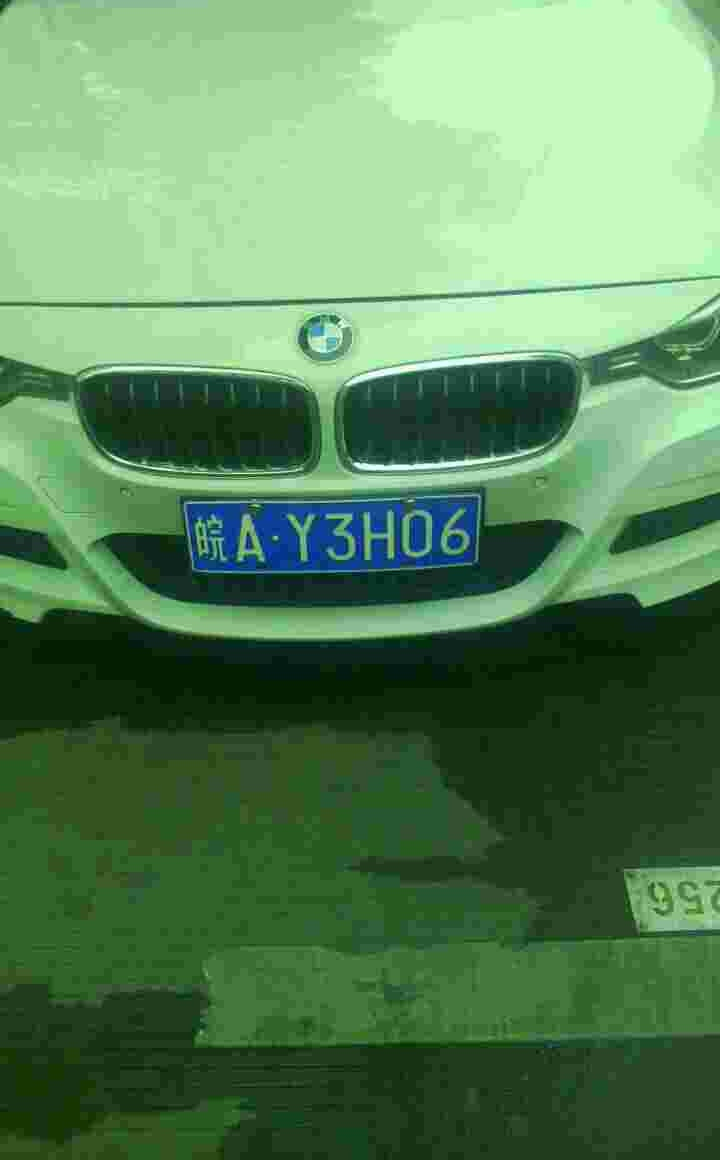license_plate: (195, 492, 484, 591)
